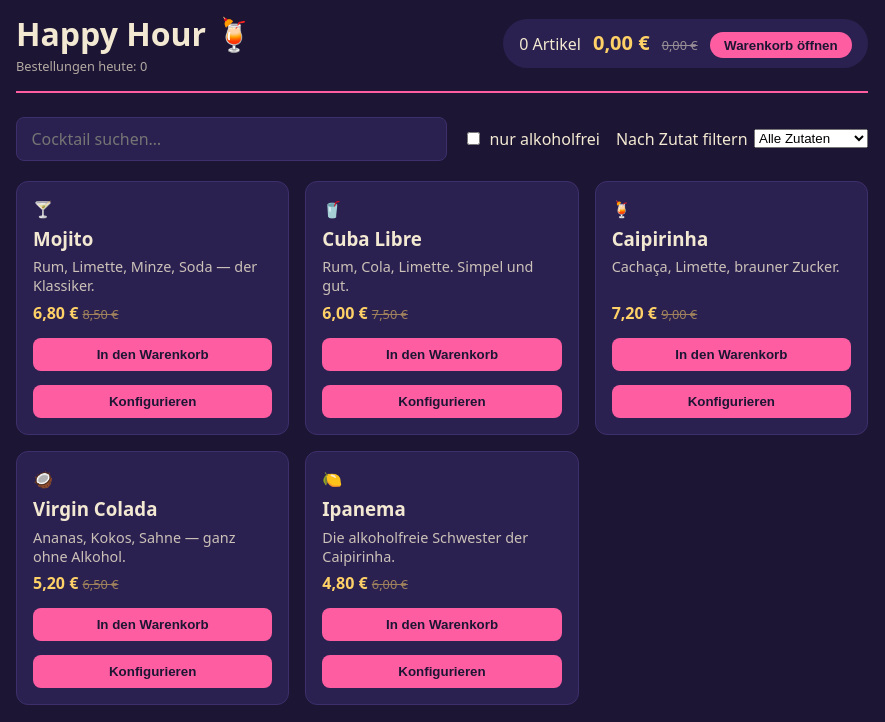
Scenario: Happy Hour im App-Header › bei HH-Zeit (17:30) und Mojito im Warenkorb → reduzierter Preis '6,80 €' in Warenkorb-Übersicht sichtbar
Click the button "In den Warenkorb" below "6,80 €" at (153, 354), box [33, 338, 272, 371]
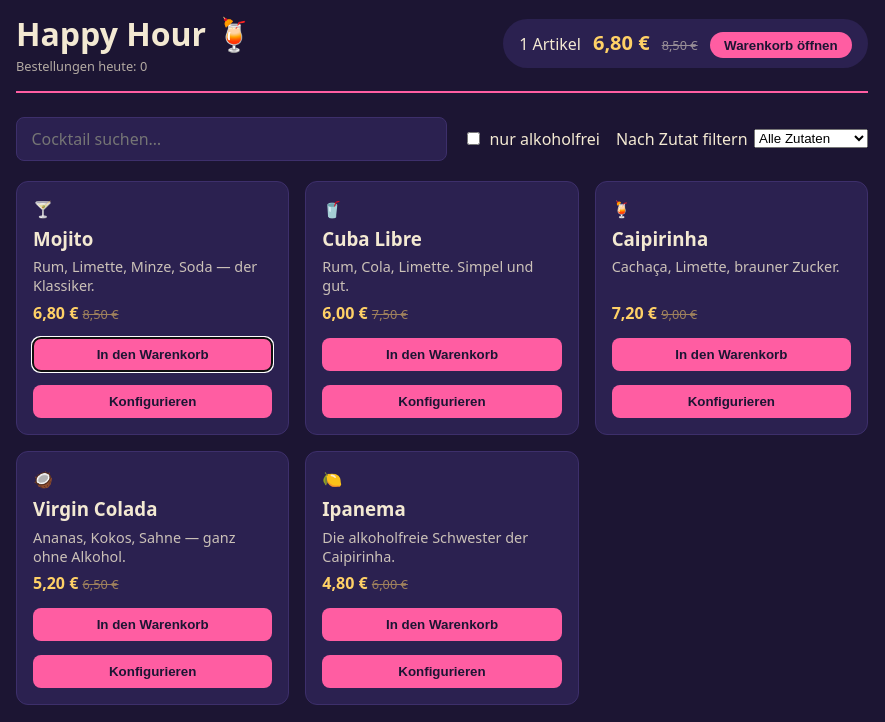
Expected: the text "6,80 €" is shown, [593, 29, 650, 56]
